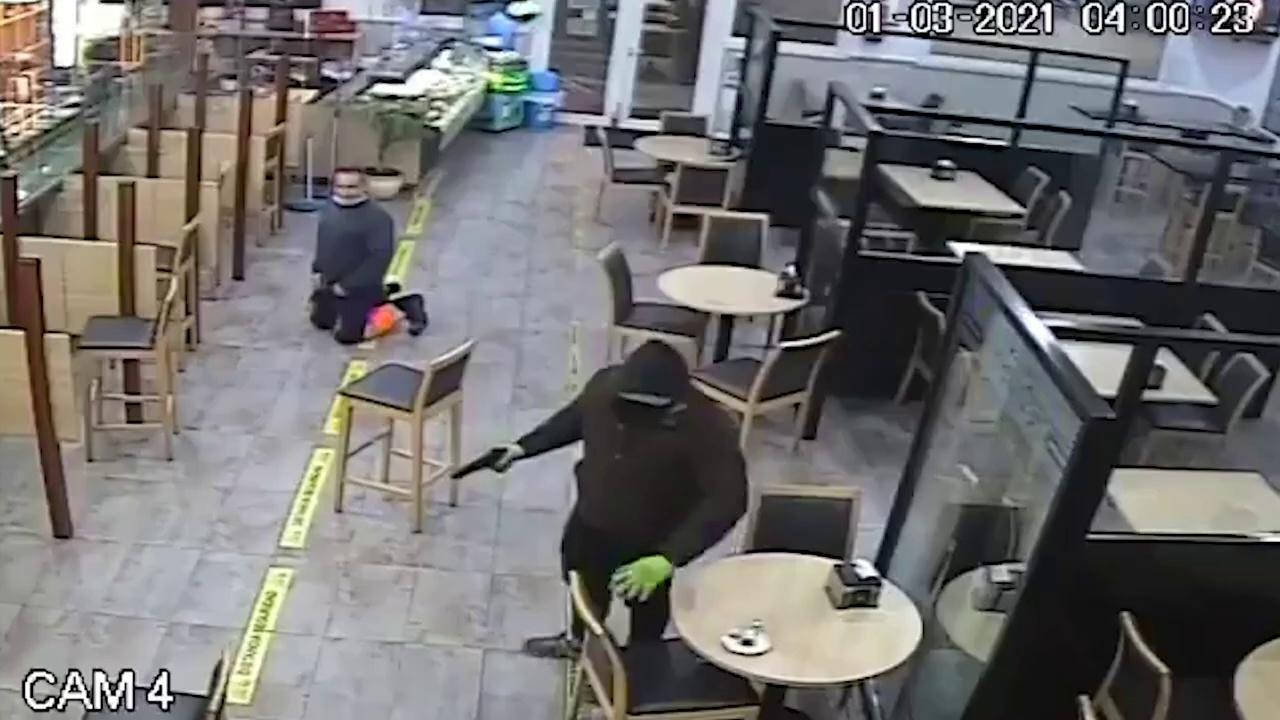Guns perspective: (428, 433, 530, 500)
